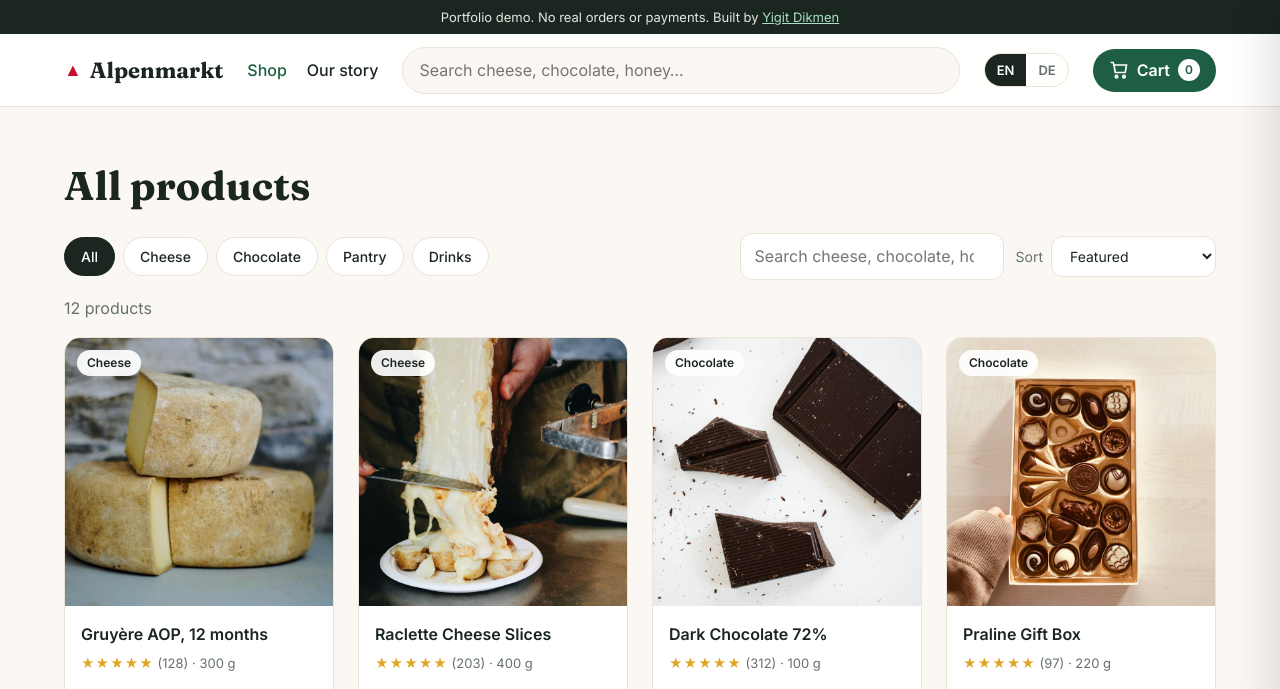
Scenario: Alpenmarkt user flows › filters the shop by category
Expected: the text with test id "result-count" reads "12 products", [64, 298, 152, 318]
Click the button "Chocolate": x=267, y=257 [216, 237, 318, 276]
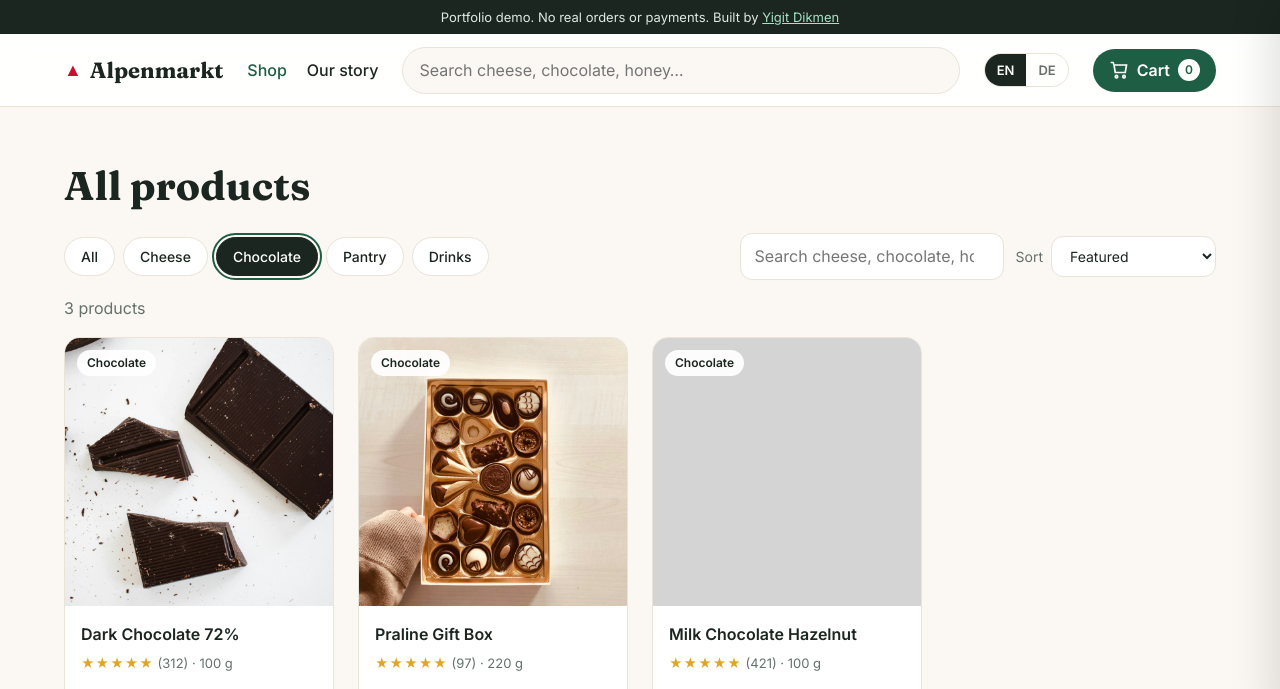
Now the text with test id "result-count" reads "3 products", box [64, 298, 146, 318]
